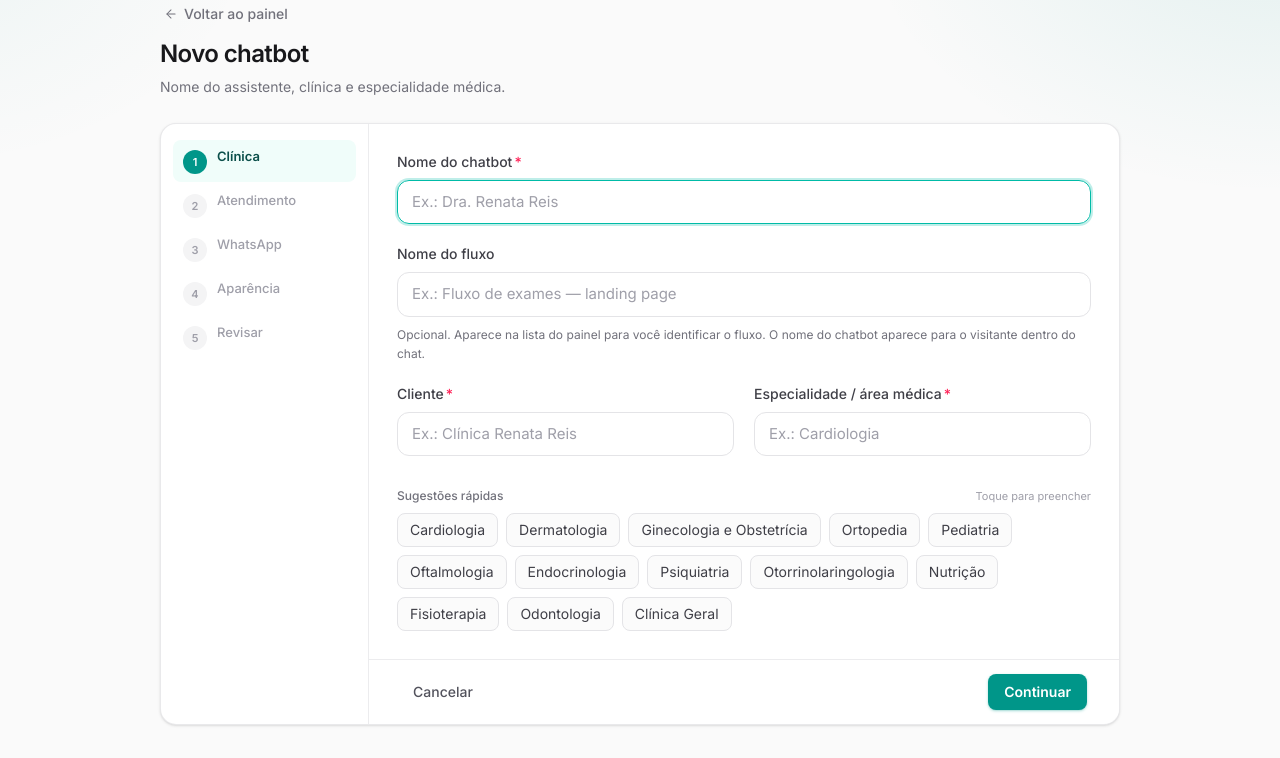
it: ChatbotForm (wizard) › lets the operator switch tone and updates stock questions across the flow
Step 1. Type "Dra. Ana" into the field labelled "Nome do chatbot*" → x=744, y=202, box left=397, top=180, right=1091, bottom=224
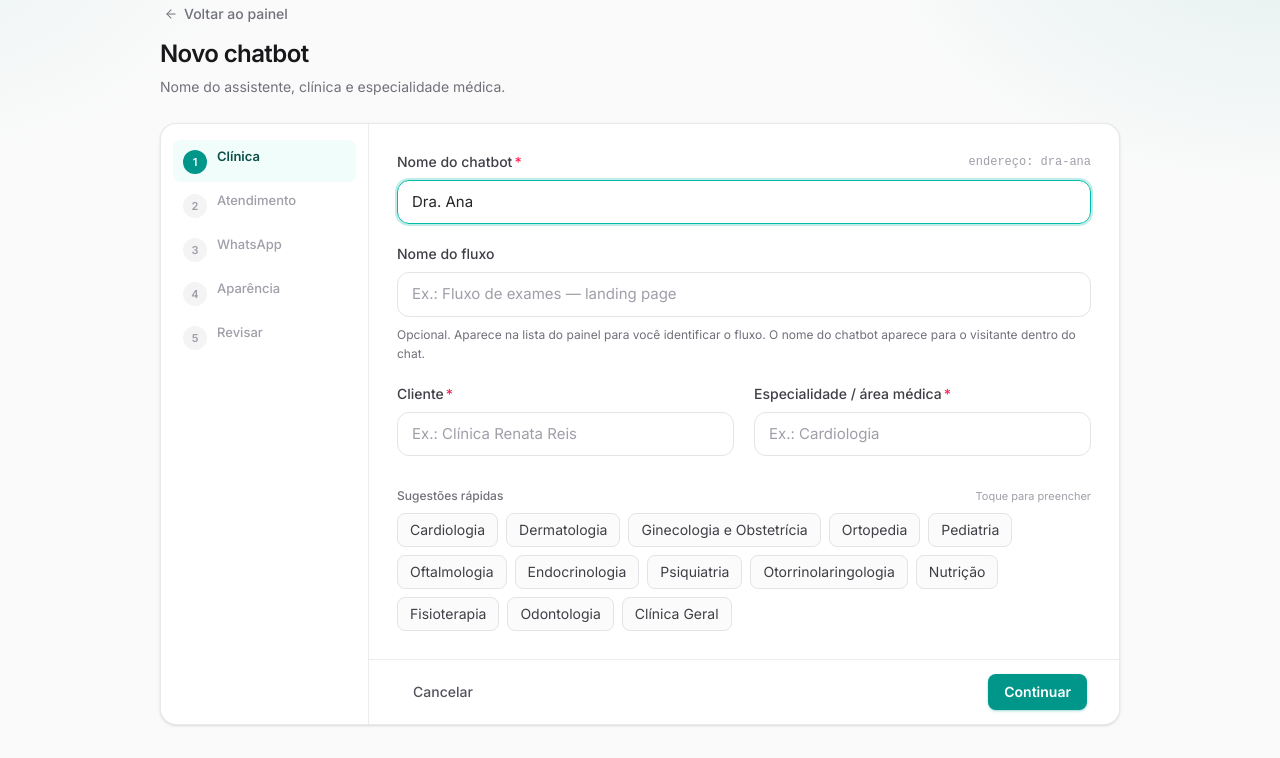
Step 2. Type "Clínica Ana" into the field labelled "Cliente*" → x=566, y=434, box left=397, top=412, right=734, bottom=456
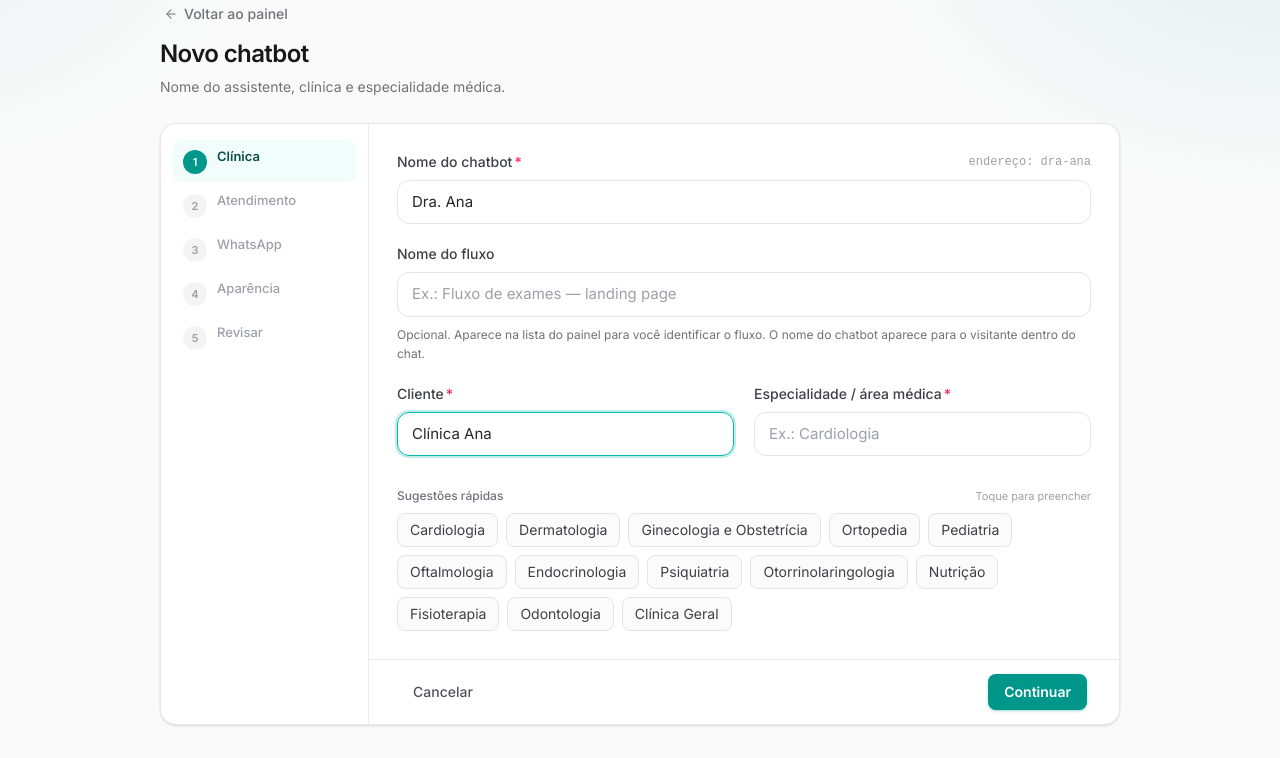
Step 3. Type "Cardiologia" into the field labelled "Especialidade / área médica*" → x=922, y=434, box left=754, top=412, right=1091, bottom=456
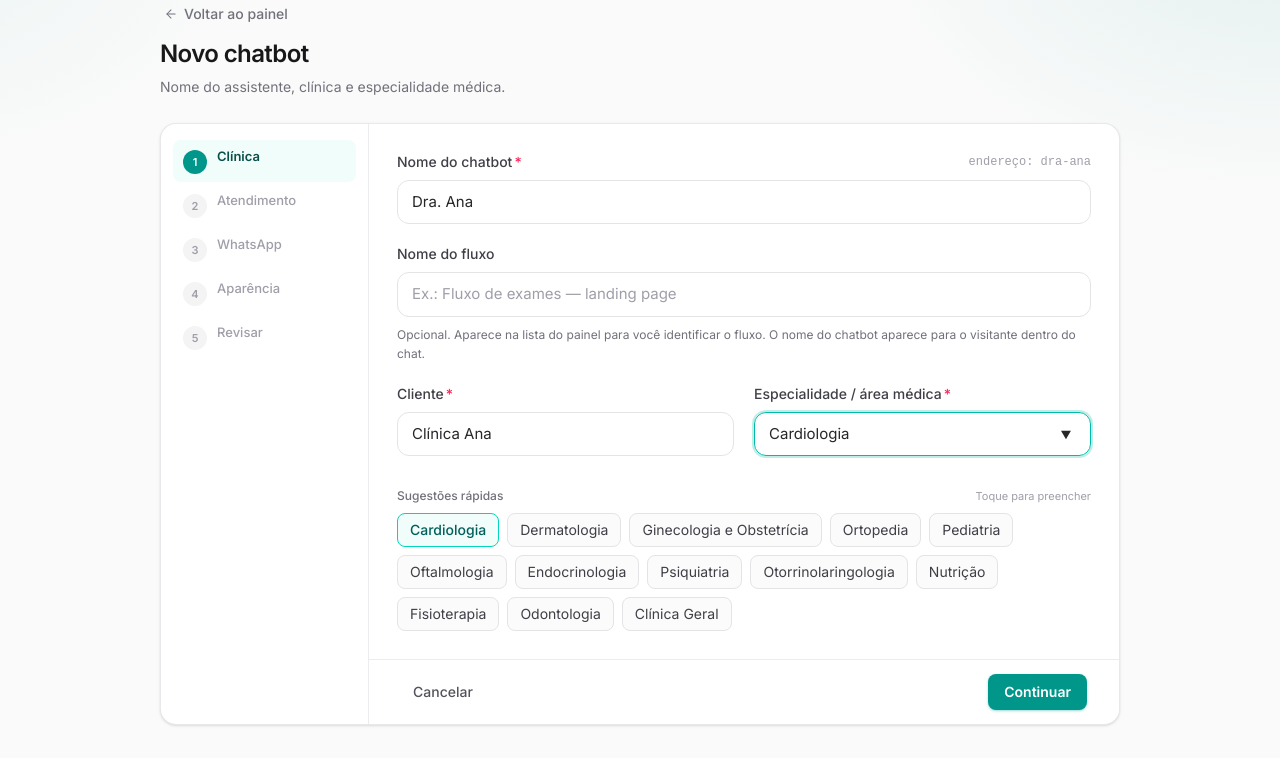
Step 4. Click the button "Continuar" → x=1038, y=692, box left=988, top=674, right=1087, bottom=710
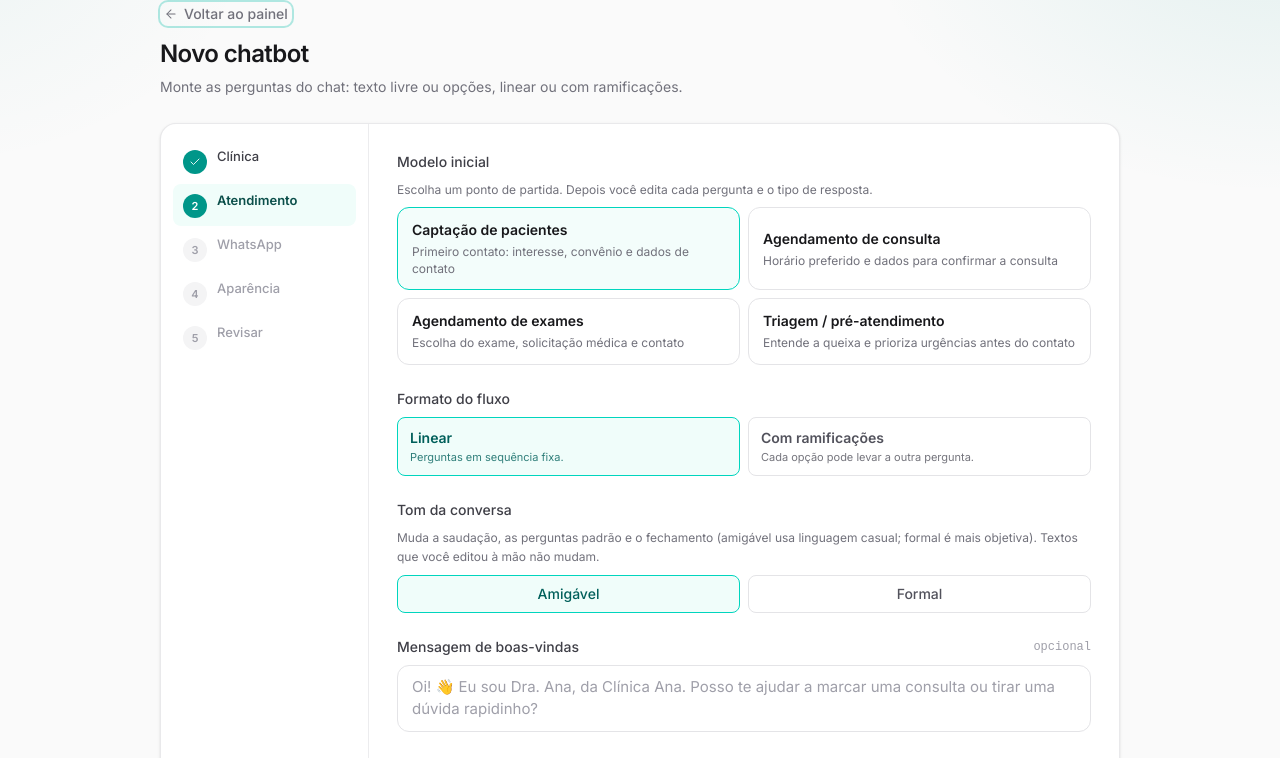
Step 5. Click the button "Formal" → x=920, y=594, box left=748, top=575, right=1091, bottom=613
(page scrolled)
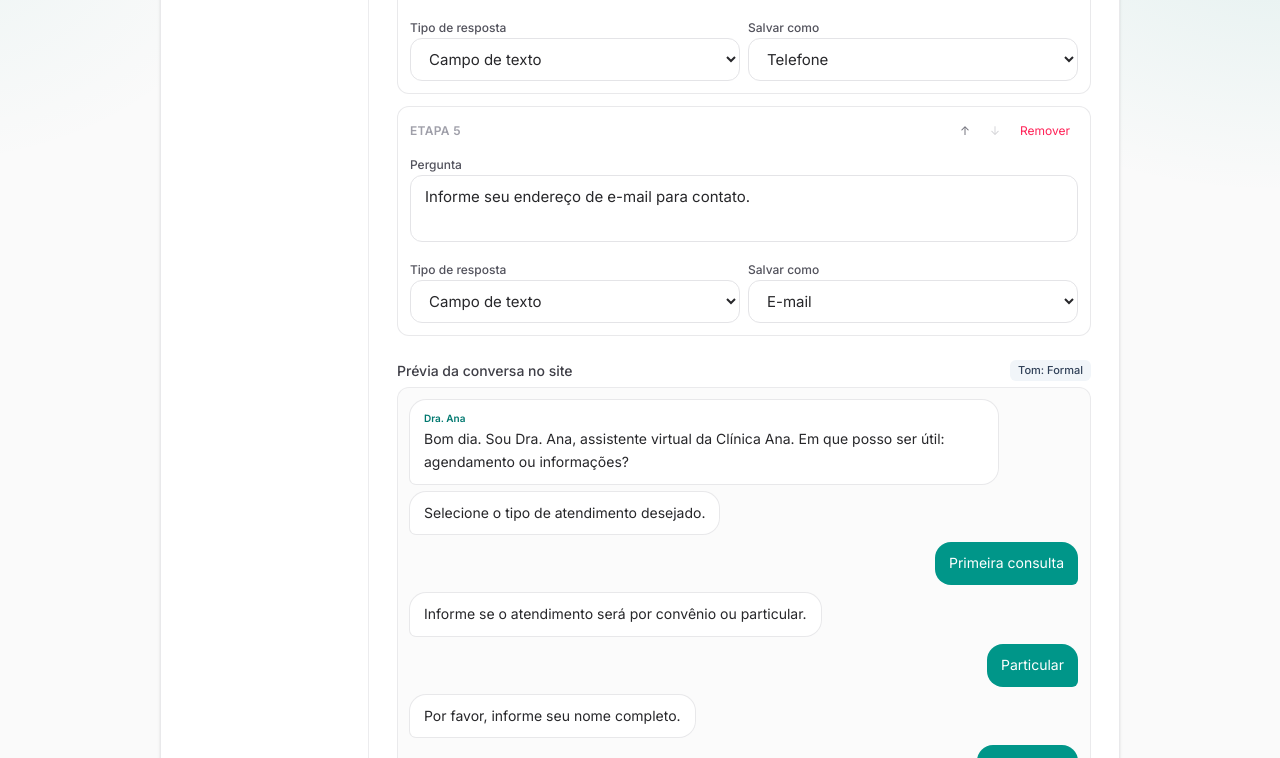
Expected: the text "Bom dia" is shown, left=424, top=430, right=945, bottom=470
Expected: the text "Tom: Formal" is shown, left=1010, top=360, right=1091, bottom=381
